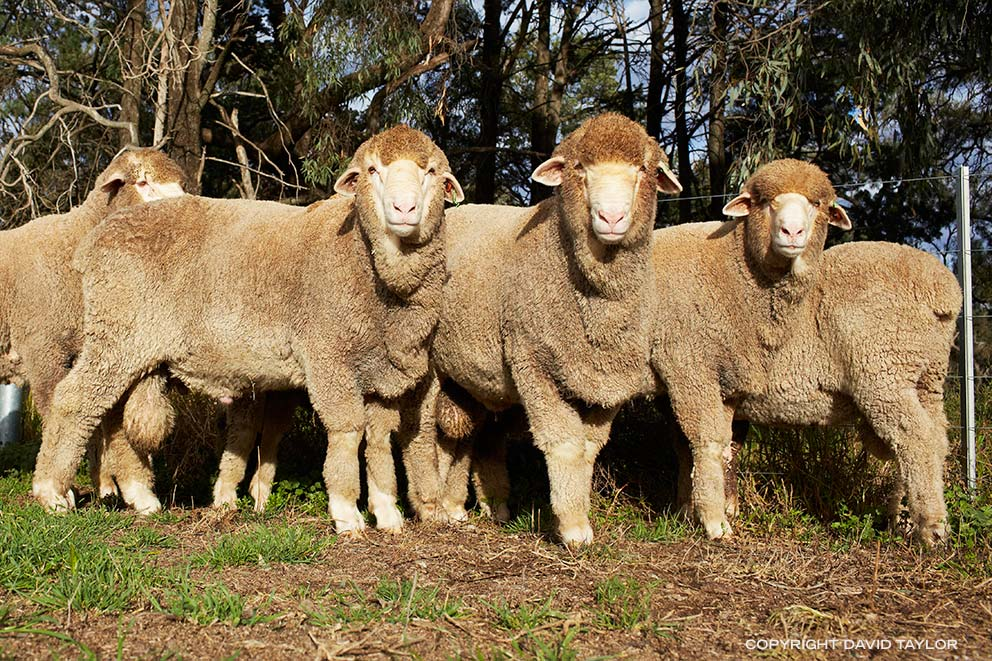sheep: (28, 124, 464, 523), (337, 110, 671, 526), (498, 158, 848, 540), (675, 237, 972, 546), (1, 136, 191, 517)
